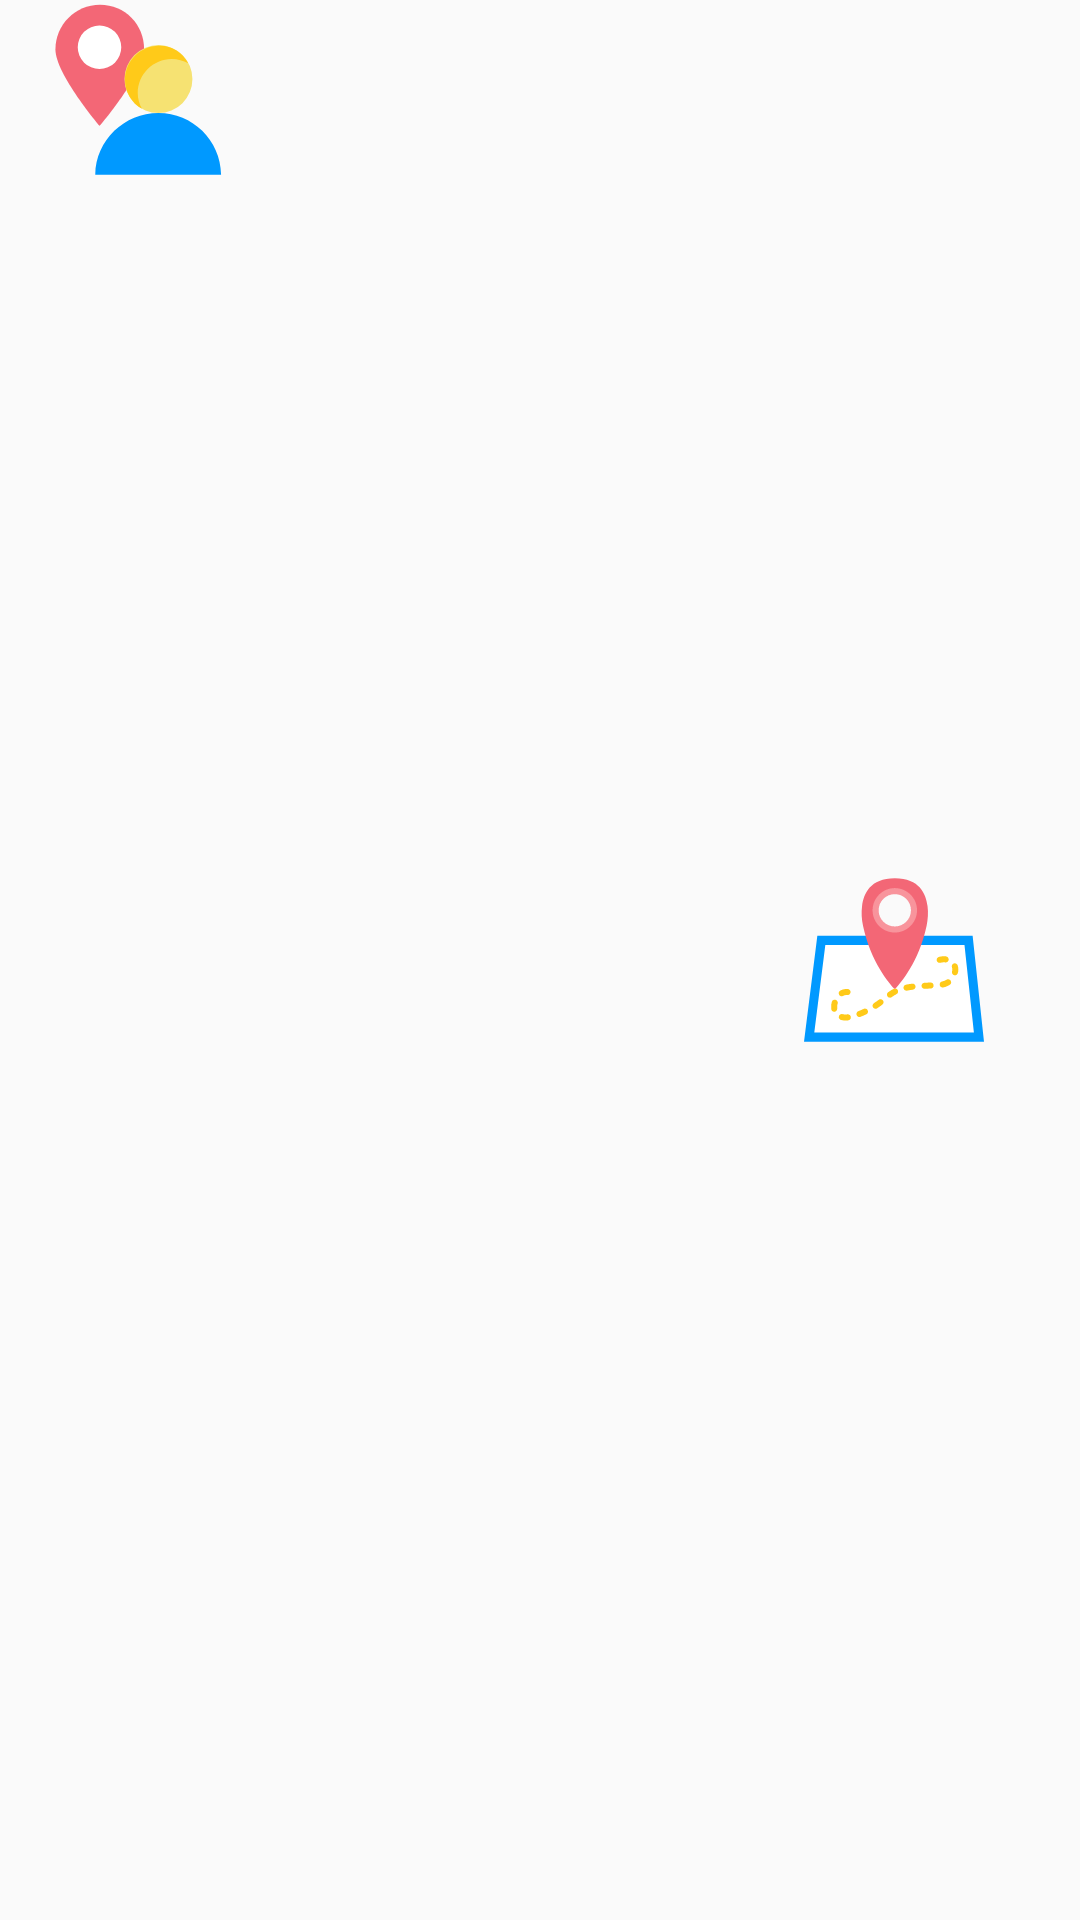

Icons on this 1080w x 1920h Android screen, each with its box as (x1, y1, x2, y2):
user list item: (55, 4, 221, 175)
